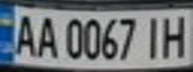0: (60, 15, 84, 61), (81, 15, 103, 61)
6: (100, 15, 121, 61)
7: (115, 14, 142, 61)
A: (9, 10, 39, 57), (33, 12, 60, 60)
H: (157, 11, 193, 58)
I: (139, 12, 166, 61)
